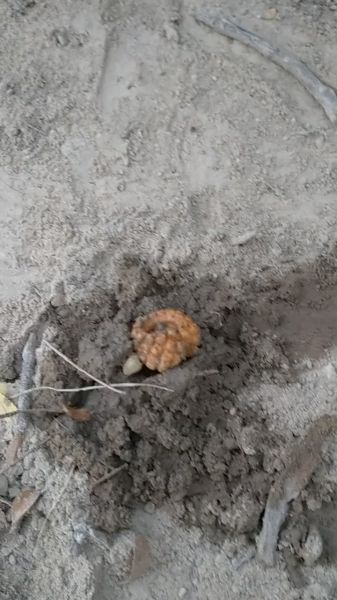eggs: (129, 305, 205, 376)
